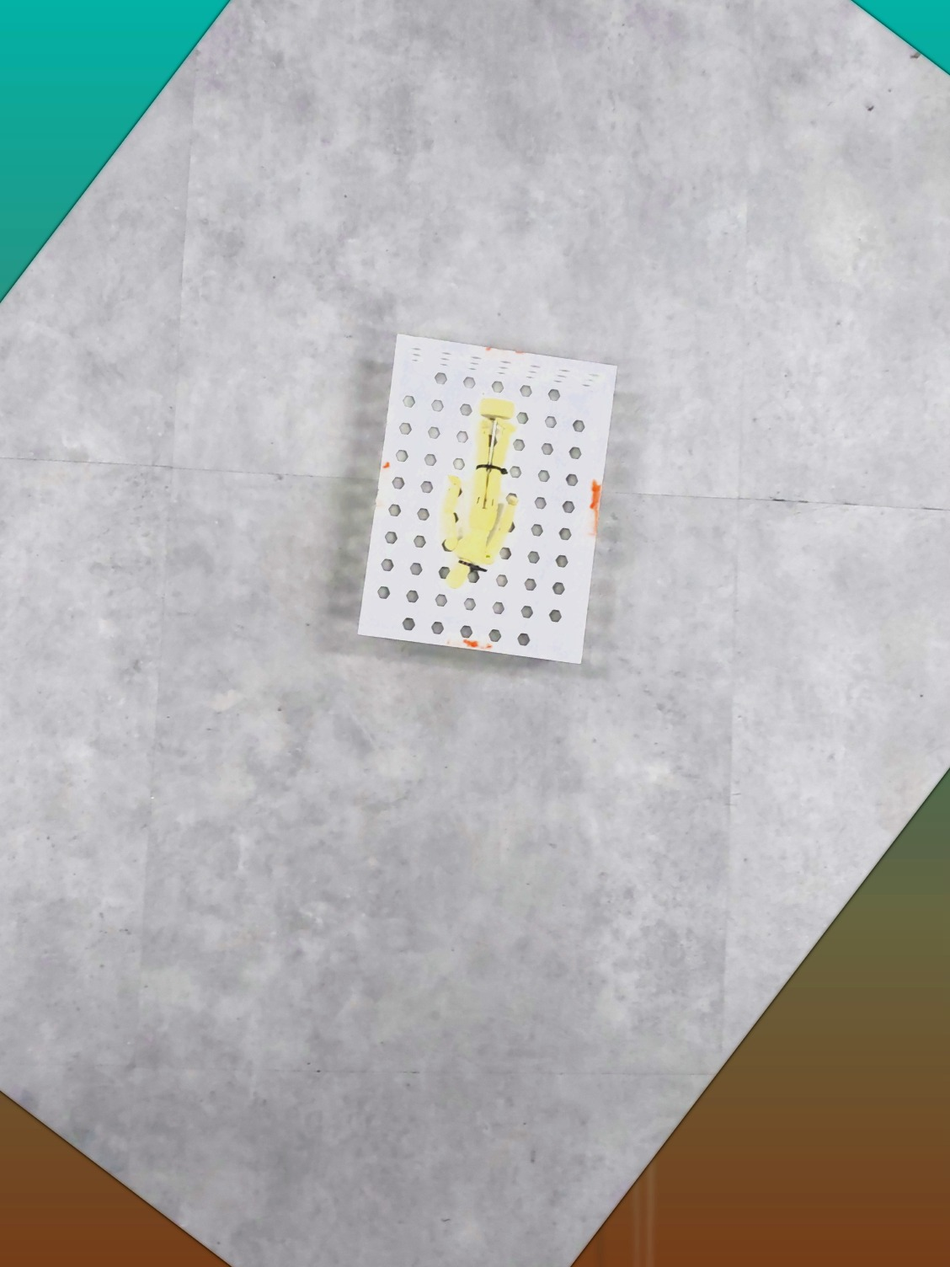basket: (350, 324, 624, 671)
mannequin: (438, 392, 524, 597)
